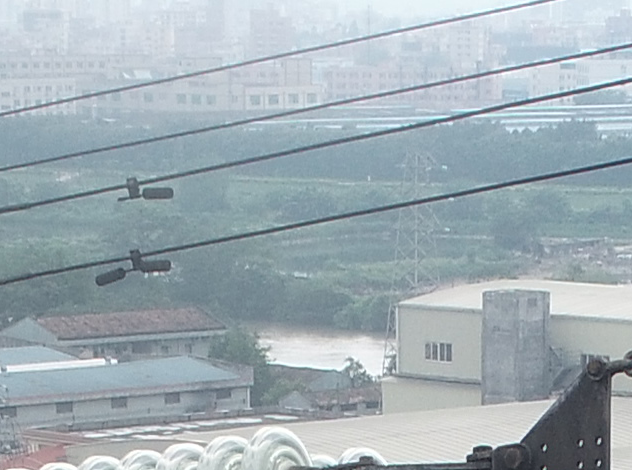damper: (93, 247, 172, 287)
damper_defect: (116, 176, 178, 204)
